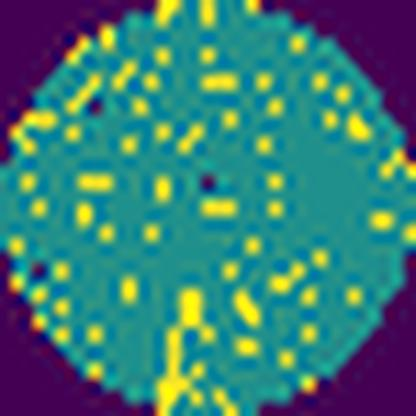Loc: (154, 290, 216, 416)
